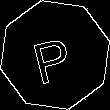P_N: (31, 26, 79, 84)
